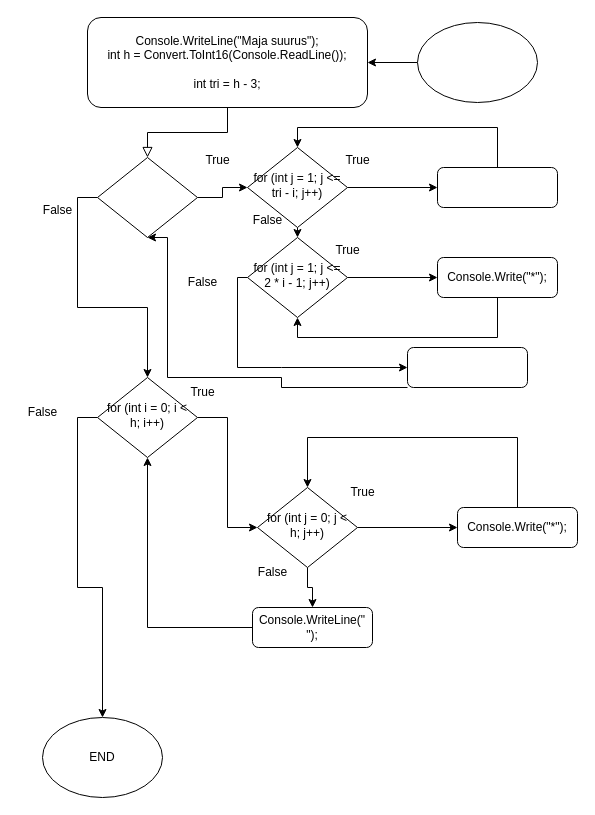
Some shapes in this 595 by 815 pixel diagram are drawn without their labels. The box of each missing label's shape, as (x1, y1, x2, y2) in pixels:
Console.Write(" ");: (436, 166, 558, 208)
Console.Write("\n");: (406, 346, 528, 388)
for (int i = 0; i <= tri; i++): (96, 156, 198, 238)
Start: (416, 22, 538, 102)
